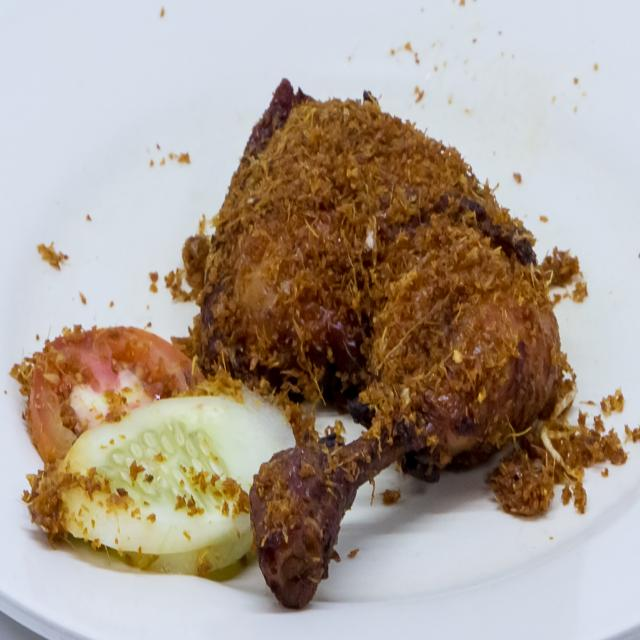Ayam-Goreng-Lengkuas: (187, 60, 575, 620)
